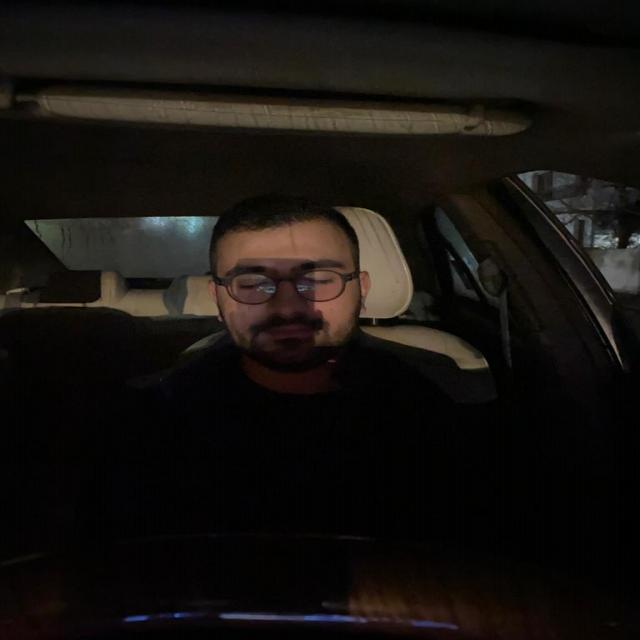drowsy: (198, 184, 377, 372)
